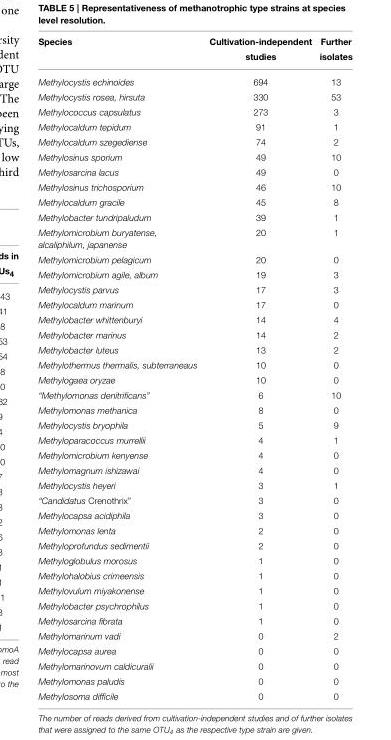table: (37, 37, 351, 700)
table column: (37, 37, 202, 700), (202, 37, 314, 700), (314, 37, 351, 700)
table column header: (37, 37, 351, 69)
table row: (37, 37, 351, 69), (37, 224, 351, 252), (37, 69, 351, 89), (37, 492, 351, 508), (37, 89, 351, 104), (37, 104, 351, 119), (37, 119, 351, 134), (37, 134, 351, 149), (37, 149, 351, 164), (37, 164, 351, 179), (37, 179, 351, 194), (37, 194, 351, 209), (37, 209, 351, 224), (37, 252, 351, 267), (37, 267, 351, 282), (37, 282, 351, 297), (37, 297, 351, 312), (37, 312, 351, 327), (37, 327, 351, 342), (37, 342, 351, 357), (37, 357, 351, 372), (37, 372, 351, 387), (37, 387, 351, 402), (37, 402, 351, 417), (37, 417, 351, 432), (37, 432, 351, 447), (37, 447, 351, 462), (37, 462, 351, 477), (37, 477, 351, 492), (37, 508, 351, 523), (37, 523, 351, 538), (37, 538, 351, 553), (37, 553, 351, 568), (37, 568, 351, 583), (37, 583, 351, 598), (37, 598, 351, 613), (37, 613, 351, 628), (37, 628, 351, 643), (37, 643, 351, 658), (37, 658, 351, 673), (37, 673, 351, 688), (37, 688, 351, 700)
